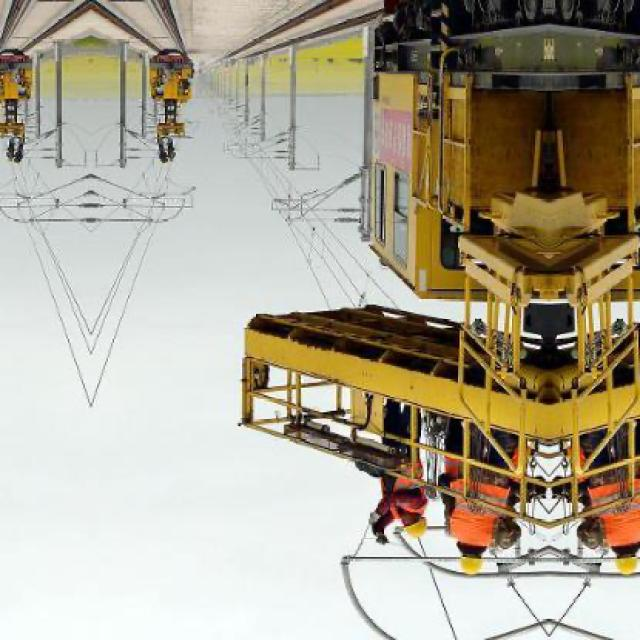con casco: (448, 528, 514, 588), (376, 497, 431, 555), (606, 547, 640, 587)
